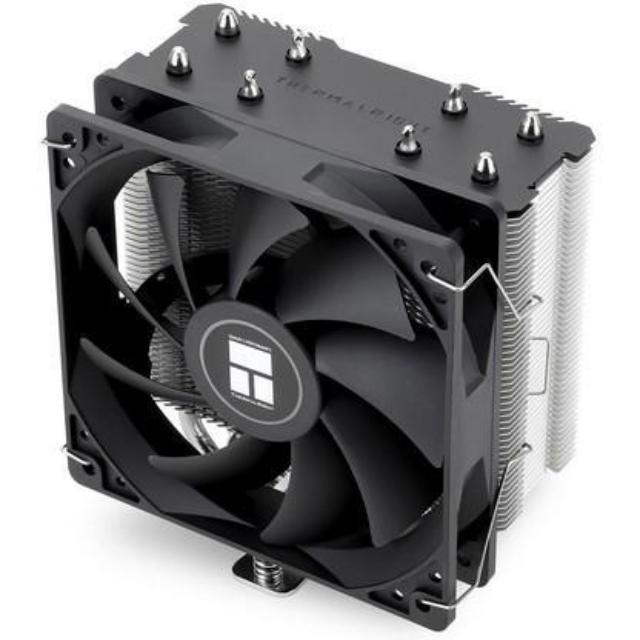CPU_Fan: (43, 4, 597, 636)
